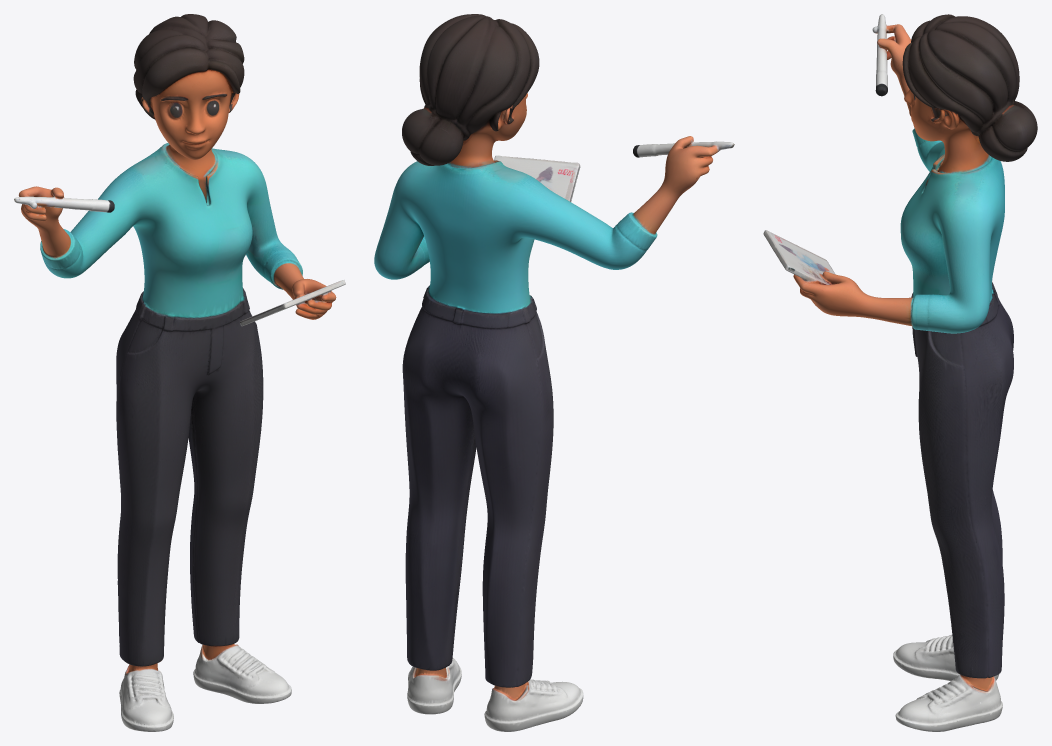
File: Modelado3DHeroSN.glb
3 views of the same model, side by side, from view 1: azimuth 30°, elevation 25°; view 2: azimuth 150°, elevation 25°; view 3: azimuth 270°, elevation 25° (orthographic).
Bounding box in the file's own units: 0.9595 × 2 × 0.7352.
Materials: 1 (1 with a texture image).
